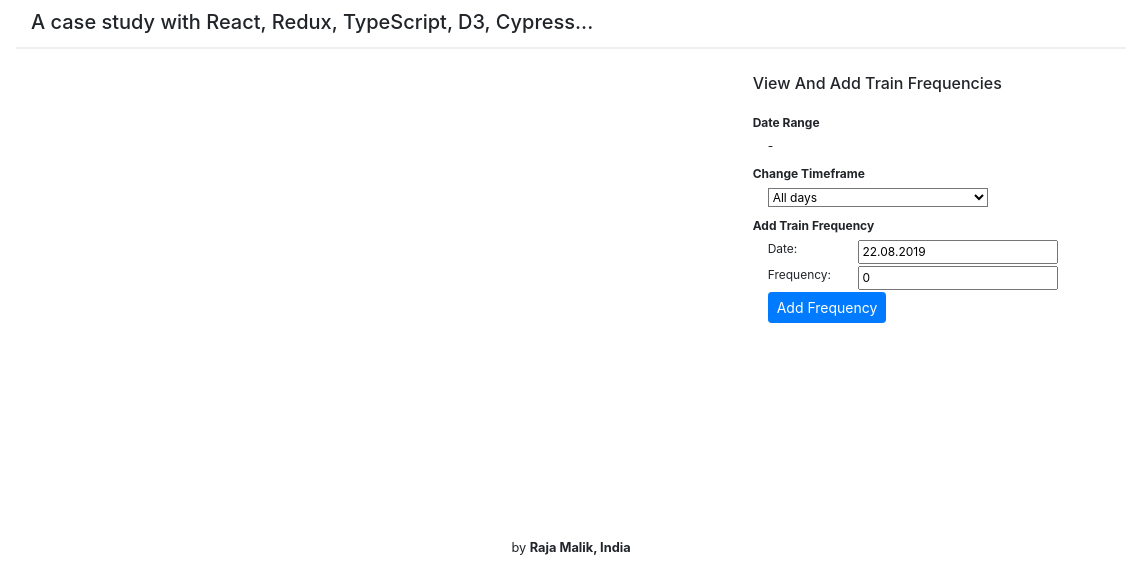
Test: Train Frequency POST API › must have validation › if frequency entered is 0
Focus the field next to "Date:" at (959, 252), box [859, 240, 1059, 264]
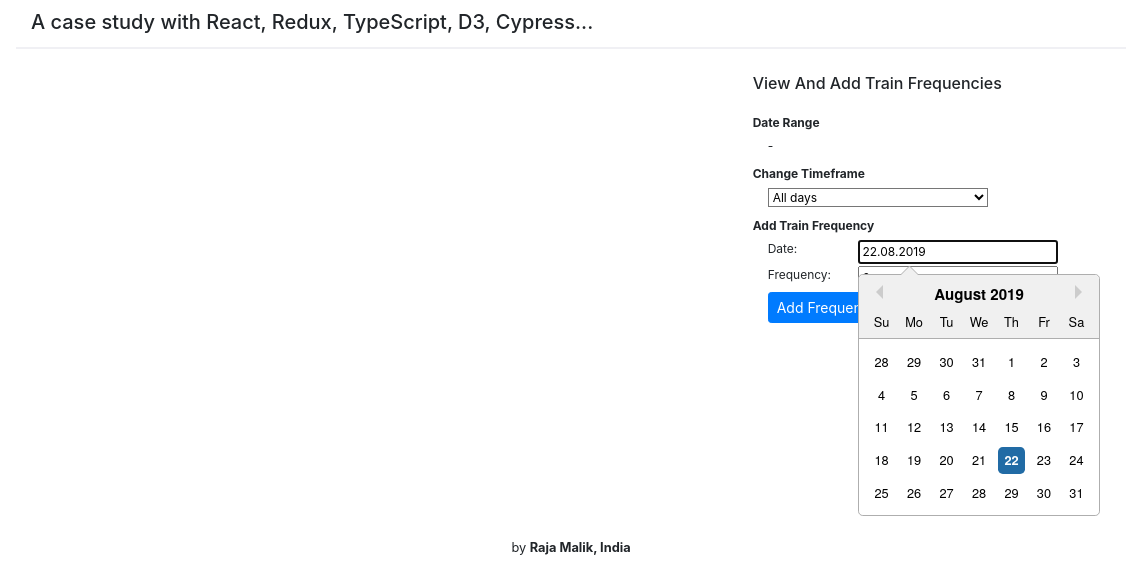
Click the button with class "react-datepicker__day--015" at (1012, 427), box [1005, 417, 1019, 436]
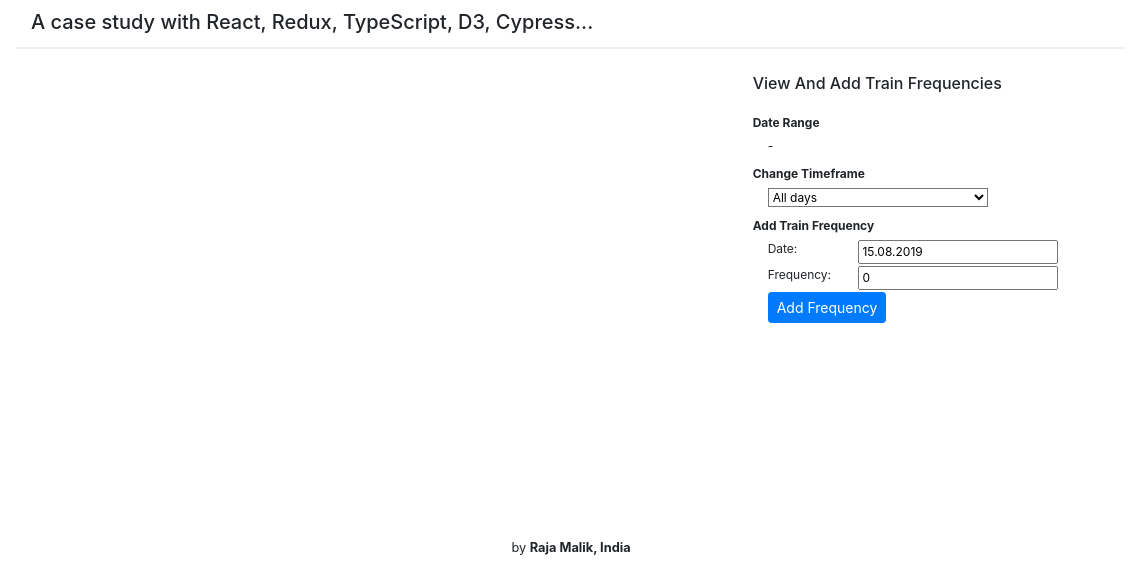
Clear the field with class "newPoint" at (959, 278), box [859, 266, 1059, 290]
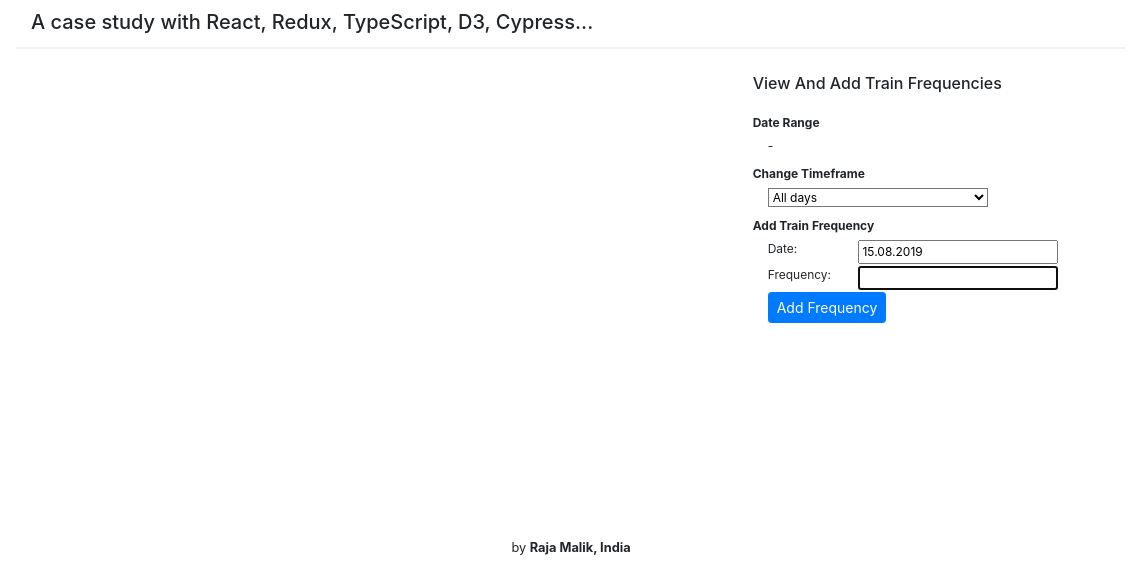
Type "0" into the field with class "newPoint" at (959, 278), box [859, 266, 1059, 290]
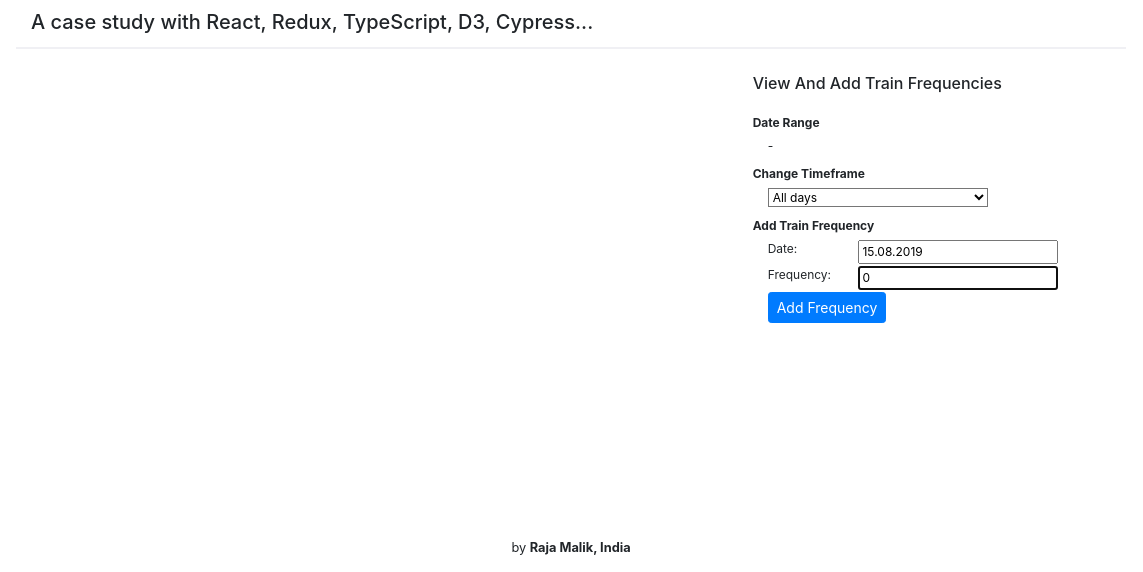
Click the button with class "addPointBtn" at (828, 308), box [768, 292, 887, 323]
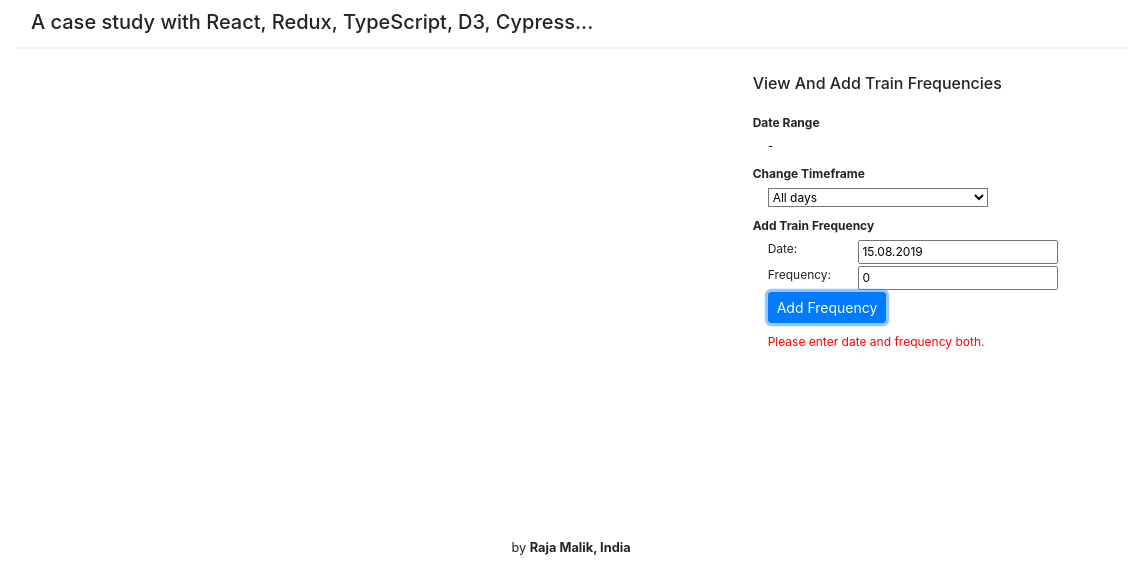
Expected: the text with class "message-error" reads "Please enter date and frequency both.", [768, 334, 985, 349]
